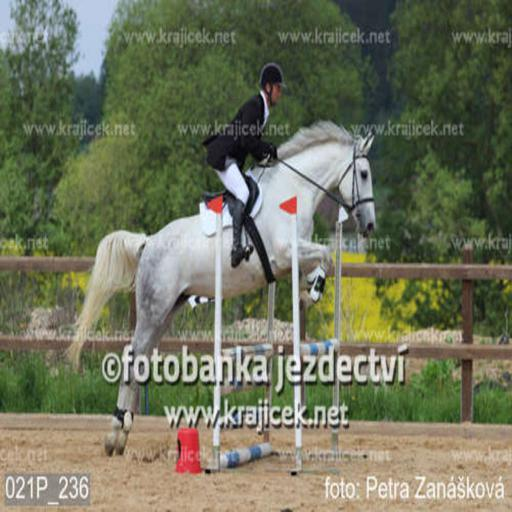horse: (63, 112, 378, 455)
